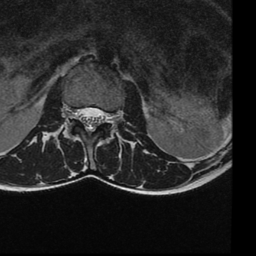CCS_normal: (85, 98, 94, 142)
LFS_normal: (105, 98, 114, 131)
LLS_normal: (94, 98, 105, 133)
RFS_normal: (68, 95, 76, 130)
RLS_normal: (76, 98, 85, 131)
